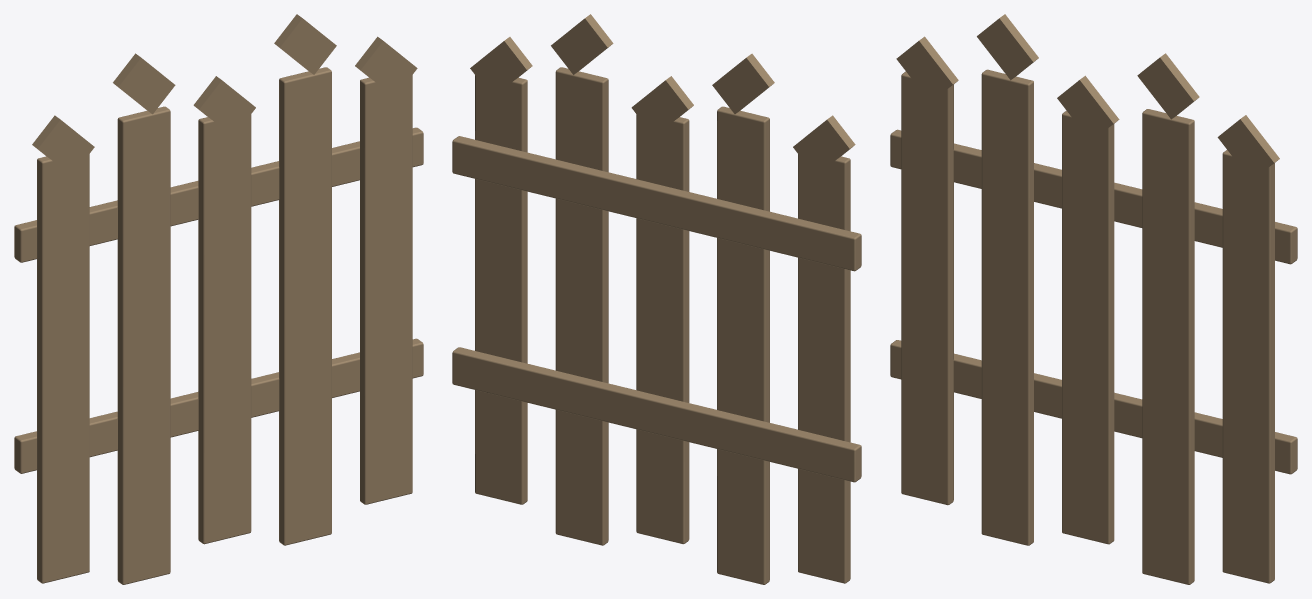
3 views of the same model, side by side, from view 1: azimuth 30°, elevation 25°; view 2: azimuth 150°, elevation 25°; view 3: azimuth 330°, elevation 25° (orthographic).
Parts seen in each view (by area): view 1: plank.001, plank.003, plank.002, plank, plank.004, rail.001, rail, tip.003, tip.001, tip.004, tip, tip.002; view 2: plank.003, plank.001, plank.002, plank.004, plank, rail, rail.001, tip.001, tip.003, tip, tip.002, tip.004; view 3: plank.001, plank.003, plank.002, plank.004, plank, rail.001, rail, tip.003, tip.001, tip, tip.004, tip.002.
Part boxes in pixels (<box>): plank.001: <box>117,106,170,584</box>; plank.003: <box>279,67,331,545</box>; plank.002: <box>198,113,251,544</box>; plank: <box>37,152,89,583</box>; plank.004: <box>360,75,412,504</box>; rail.001: <box>14,127,423,262</box>; rail: <box>14,338,423,473</box>; tip.003: <box>274,14,336,74</box>; tip.001: <box>113,53,175,114</box>; tip.004: <box>355,36,417,97</box>; tip: <box>32,115,94,175</box>; tip.002: <box>193,76,255,128</box>; plank.003: <box>555,67,608,545</box>; plank.001: <box>717,106,769,584</box>; plank.002: <box>636,113,689,544</box>; plank.004: <box>475,74,527,504</box>; plank: <box>798,153,850,583</box>; rail: <box>452,347,861,482</box>; rail.001: <box>452,136,861,271</box>; tip.001: <box>712,53,774,113</box>; tip.003: <box>551,14,613,74</box>; tip: <box>793,115,855,174</box>; tip.002: <box>631,76,693,128</box>; tip.004: <box>470,37,532,91</box>; plank.001: <box>981,69,1033,545</box>; plank.003: <box>1142,109,1194,584</box>; plank.002: <box>1062,110,1114,544</box>; plank.004: <box>1222,150,1274,583</box>; plank: <box>901,71,953,505</box>; rail.001: <box>890,129,1297,264</box>; rail: <box>890,340,1297,474</box>; tip.003: <box>1137,53,1199,119</box>; tip.001: <box>977,14,1038,80</box>; tip: <box>896,36,958,102</box>; tip.004: <box>1217,115,1279,180</box>; tip.002: <box>1057,75,1119,140</box>.
Bounding box in the file's own units: 1 × 1.24 × 0.0525.
